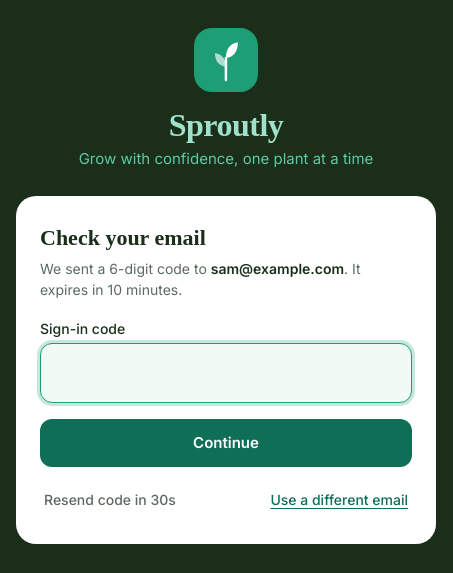
Test: Code screen › clears the input after a wrong code
This screenshot has width=453, height=573.
Type "000000" into the field labelled "Sign-in code".
click(226, 373); type("000000")  # box [40,343,412,403]
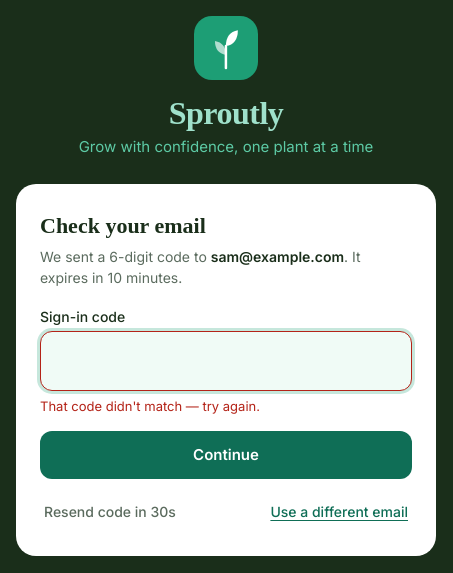
Expected: the field labelled "Sign-in code" is empty, [40,331,412,391]
Expected: the message reads "That code didn't match — try again.", [40,398,260,414]
